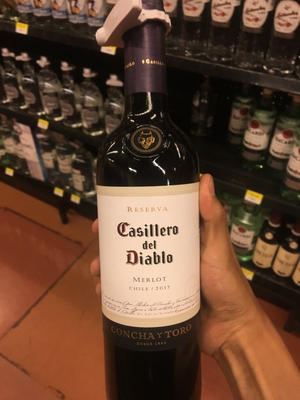casillero del diablo merlot: (89, 23, 208, 400)
